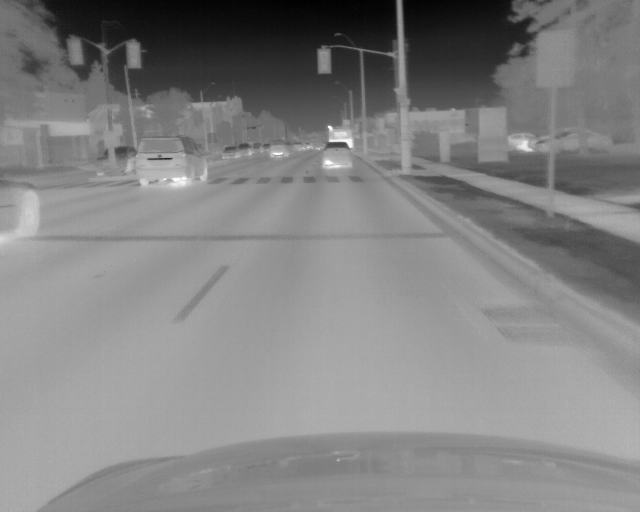car: (134, 137, 207, 186), (1, 172, 41, 242), (531, 129, 612, 157), (94, 146, 136, 177), (321, 142, 353, 170), (328, 124, 354, 149), (506, 132, 534, 153), (269, 141, 287, 158), (222, 147, 238, 160), (237, 143, 250, 156), (251, 141, 262, 153), (292, 142, 302, 151), (262, 143, 269, 152)
